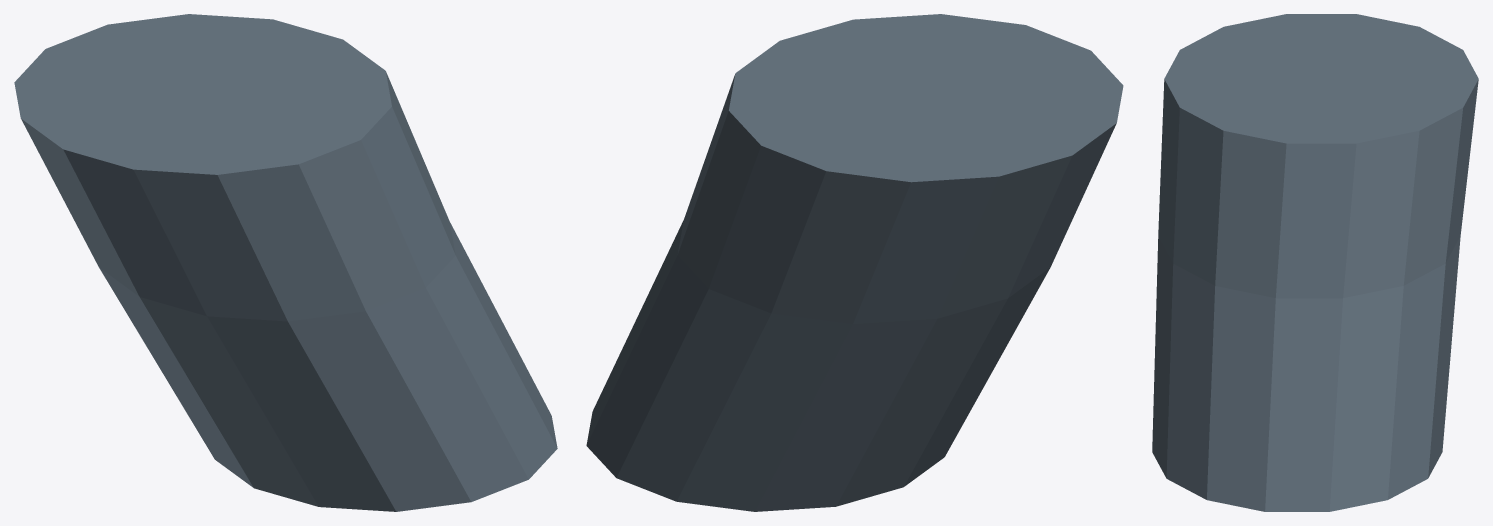
Rendered from SleeveUpper_R.obj.
3 views of the same model, side by side, from view 1: azimuth 30°, elevation 25°; view 2: azimuth 150°, elevation 25°; view 3: azimuth 270°, elevation 25° (orthographic). The views are drawn at different scales.
Visible parts, largest first — view 1: SleeveUpper_R; view 2: SleeveUpper_R; view 3: SleeveUpper_R.
Part boxes in pixels (x1,y1,x2,y2): SleeveUpper_R: (14,14,557,511); SleeveUpper_R: (586,14,1123,511); SleeveUpper_R: (1152,14,1478,511).
Bounding box in the file's own units: 0.3737 × 0.28 × 0.27.
